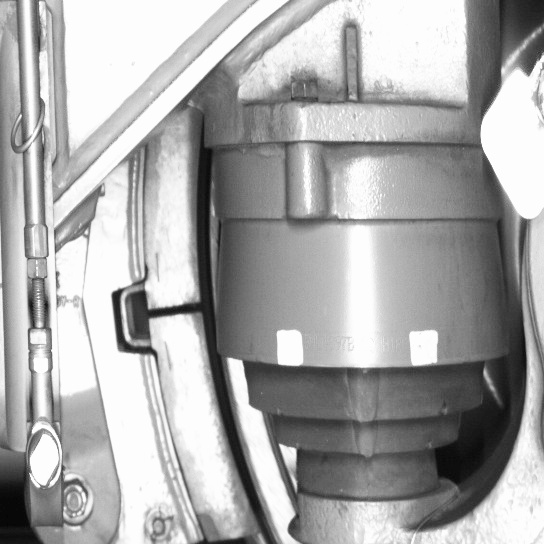KnifeSwitch: (137, 141, 282, 543)
